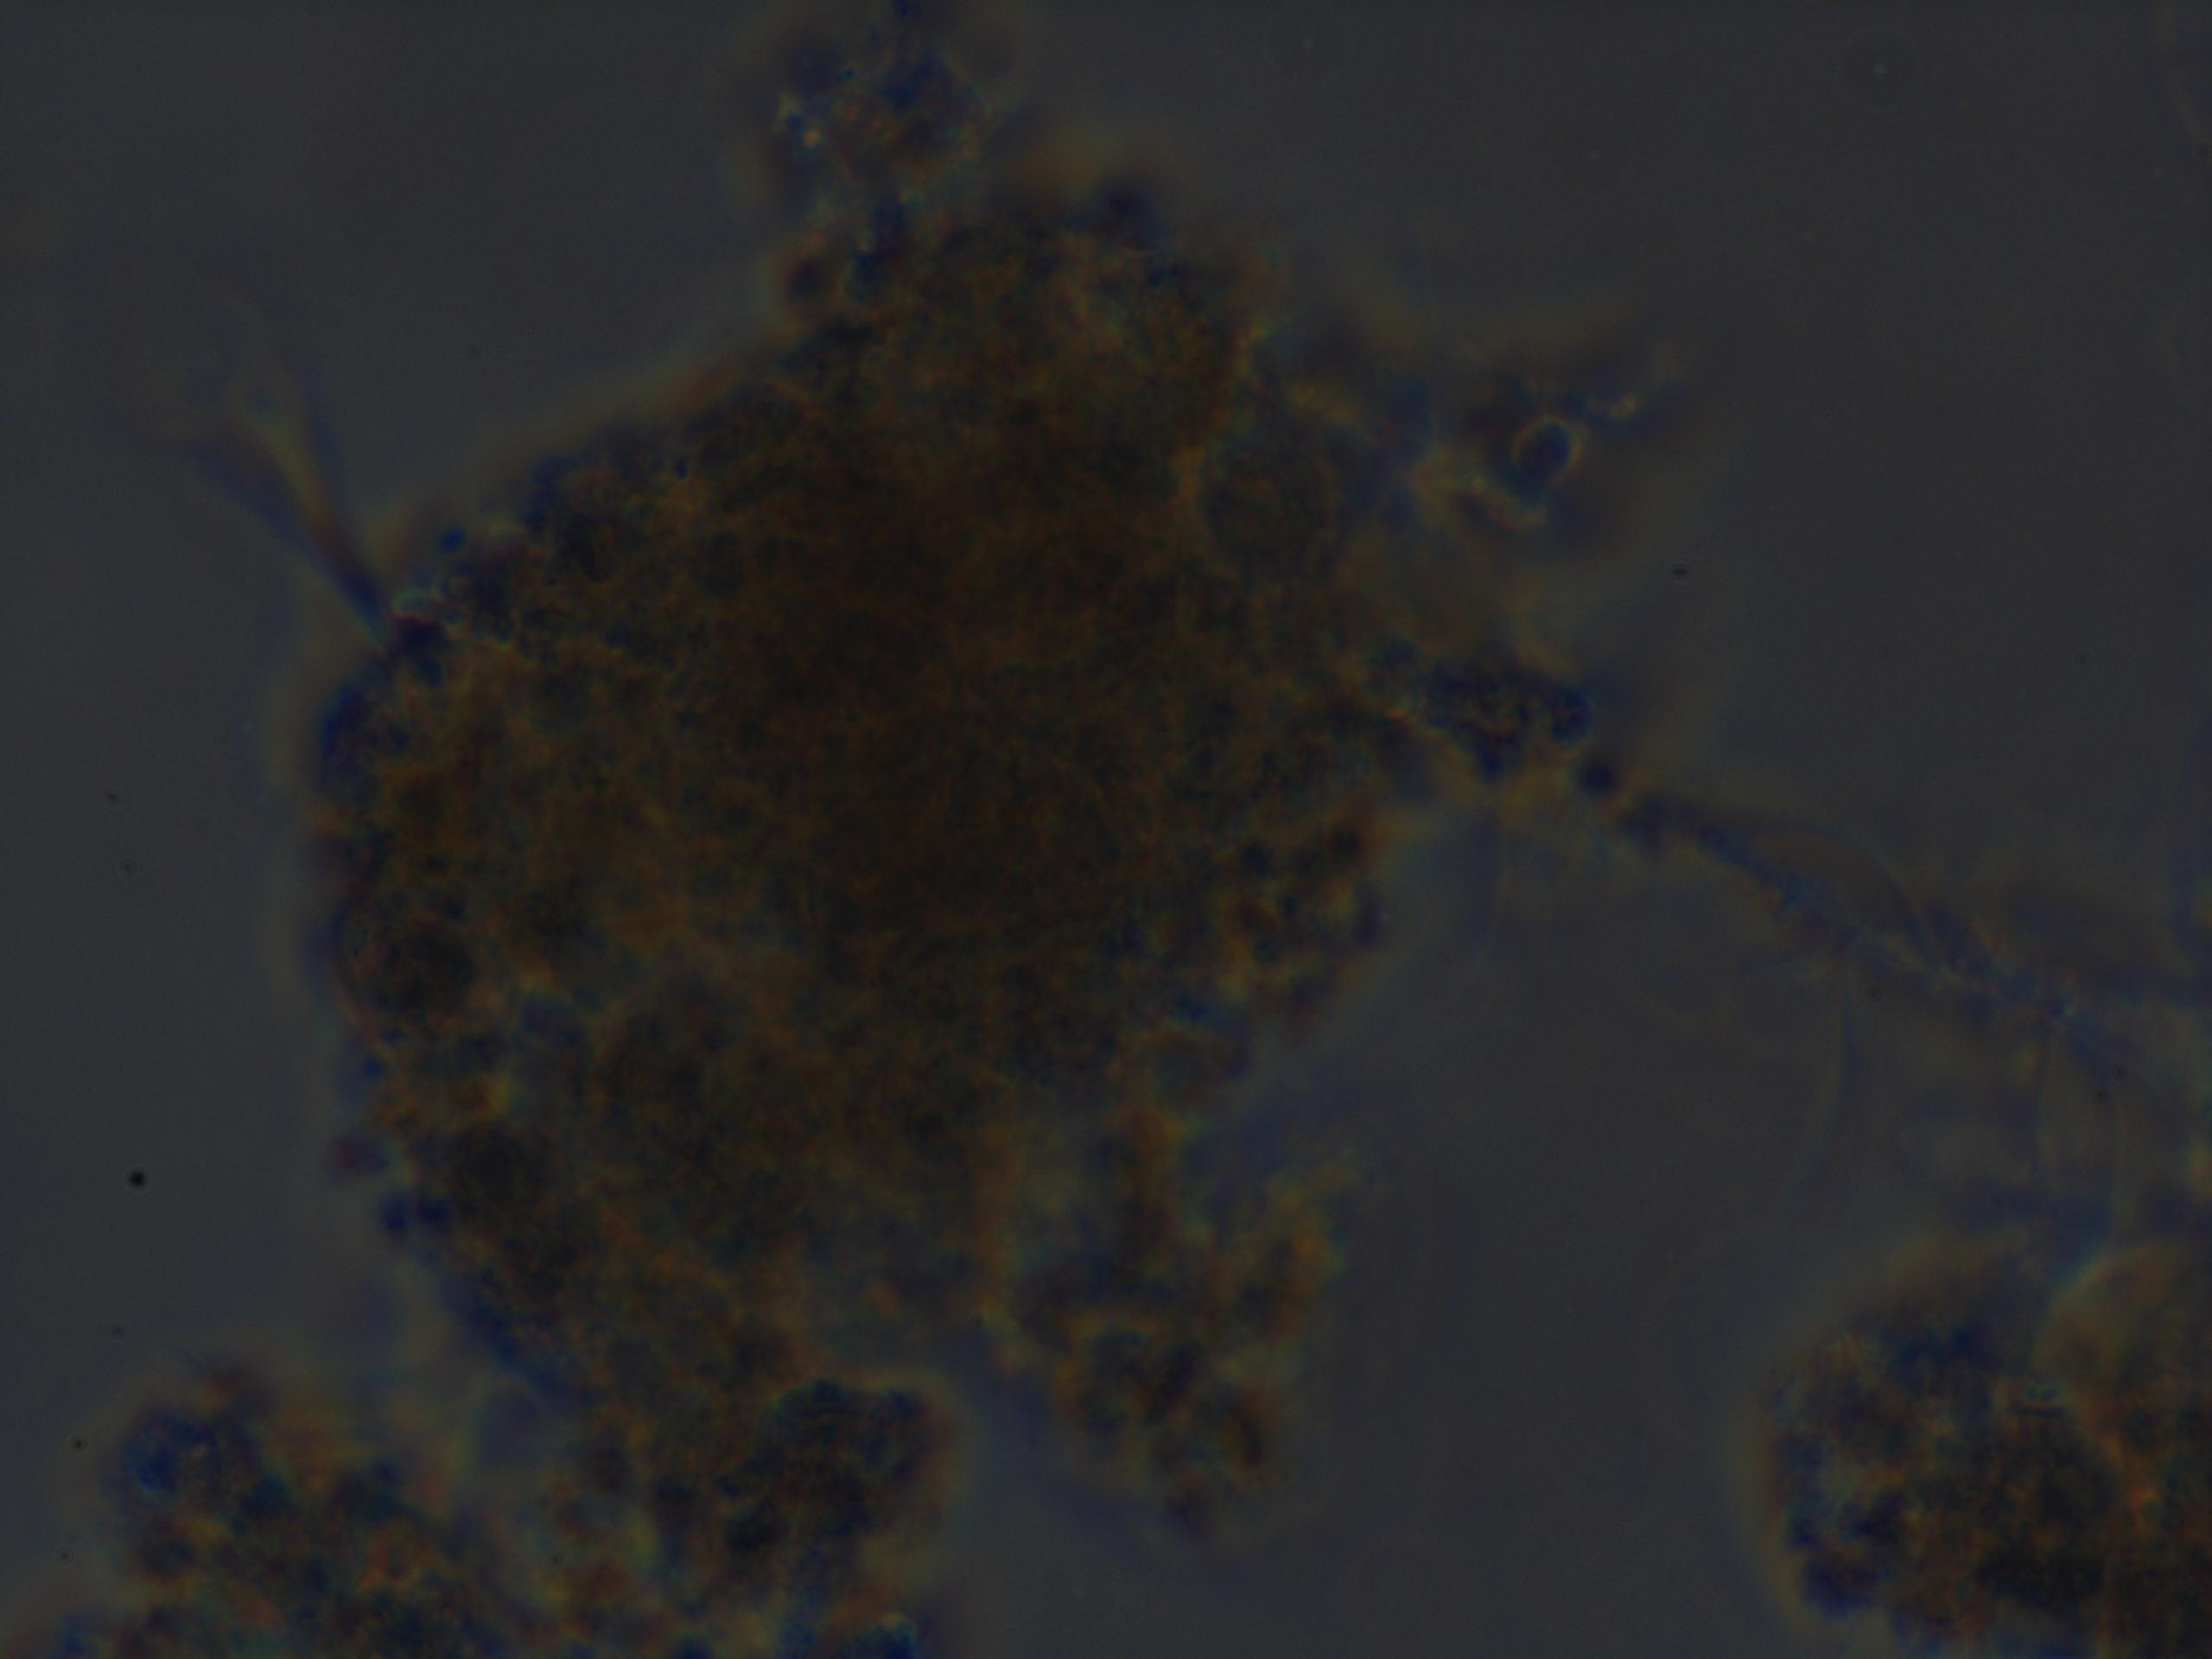filament: (1458, 640, 2212, 1213), (181, 399, 404, 653)
spherical_floc: (289, 167, 1608, 1558)
